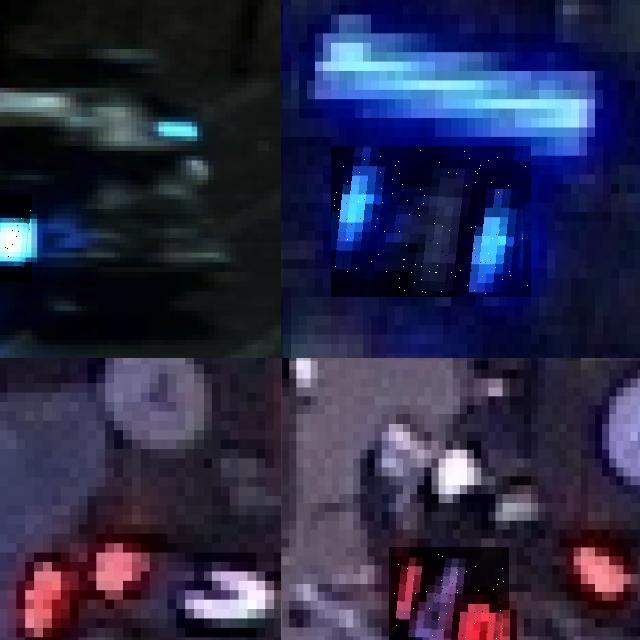B4: (331, 146, 531, 297)
R4: (388, 547, 509, 640)
